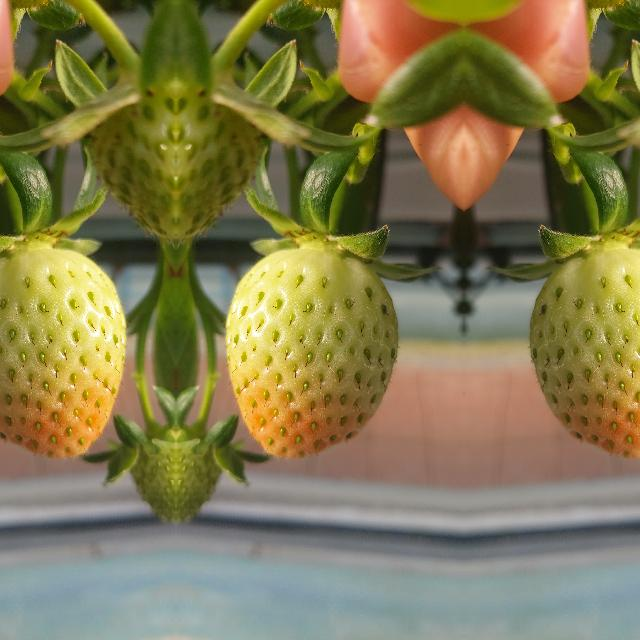Health_25: (175, 80, 269, 238), (81, 80, 175, 238), (126, 424, 176, 524), (174, 424, 223, 524)
Health_50: (225, 248, 397, 458), (0, 248, 125, 457), (529, 248, 640, 457)
